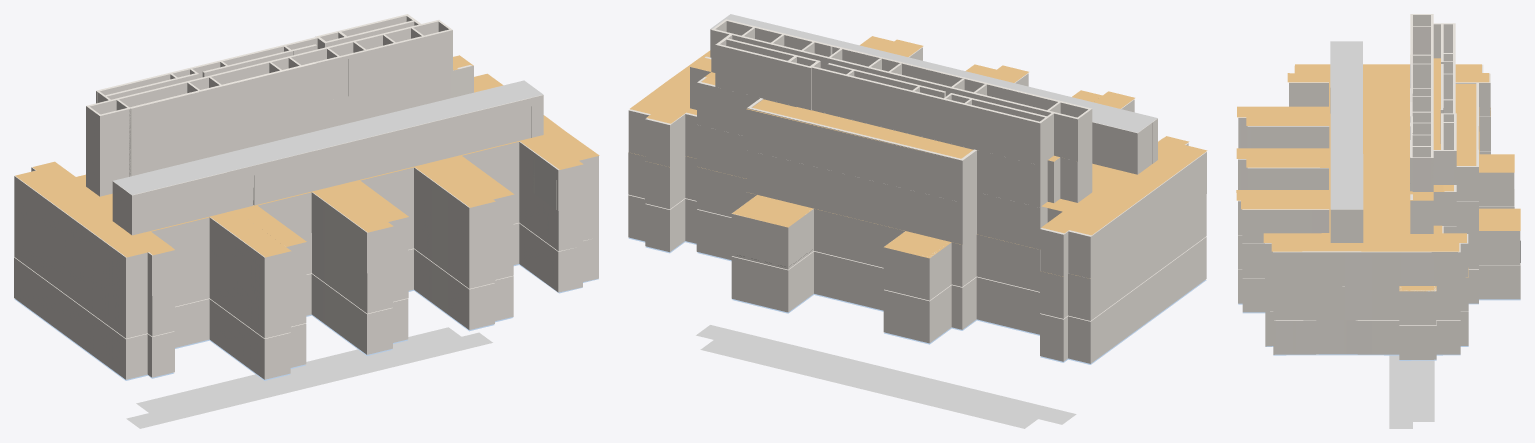
File: Våning5.glb
3 views of the same model, side by side, from view 1: azimuth 30°, elevation 25°; view 2: azimuth 150°, elevation 25°; view 3: azimuth 270°, elevation 25° (orthographic). The views are drawn at different scales.
Visible parts, largest first — view 1: Plane.007, Plane.004, Plane, Plane.002, Plane.009, Plane.005, Plane.010, Plane.008, Plane.001; view 2: Plane.009, Plane.004, Plane.002, Plane, Plane.007, Plane.010, Plane.005, Plane.008, Plane.011, Plane.006, Plane.001; view 3: Plane.005, Plane.004, Plane.002, Plane, Plane.009, Plane.008, Plane.007, Plane.010, Plane.011, Plane.006, Plane.001.
Part boxes in pixels (box(x1,y1,x2,y2)): Plane.007: box(86, 65, 543, 235); Plane.004: box(14, 73, 598, 298); Plane: box(14, 222, 598, 379); Plane.002: box(14, 182, 598, 338); Plane.009: box(86, 14, 453, 156); Plane.005: box(15, 73, 599, 257); Plane.010: box(126, 327, 492, 428); Plane.008: box(113, 80, 543, 194); Plane.001: box(14, 264, 598, 380); Plane.009: box(711, 19, 1092, 165); Plane.004: box(628, 47, 1206, 278); Plane.002: box(628, 152, 1206, 320); Plane: box(628, 195, 1206, 363); Plane.007: box(690, 29, 1157, 207); Plane.010: box(696, 325, 1076, 428); Plane.005: box(630, 36, 1207, 235); Plane.008: box(711, 14, 1157, 132); Plane.011: box(690, 56, 1059, 161); Plane.006: box(634, 153, 1076, 276); Plane.001: box(628, 237, 1206, 364); Plane.005: box(1236, 64, 1489, 251); Plane.004: box(1238, 64, 1490, 286); Plane.002: box(1238, 109, 1520, 325); Plane: box(1238, 151, 1520, 359); Plane.009: box(1410, 14, 1456, 191); Plane.008: box(1330, 41, 1363, 209); Plane.007: box(1330, 82, 1478, 242); Plane.010: box(1389, 355, 1434, 428); Plane.011: box(1410, 58, 1479, 200); Plane.006: box(1399, 108, 1520, 291); Plane.001: box(1238, 299, 1520, 360).
Size of the model in its own units: 346 by 217 by 215.
